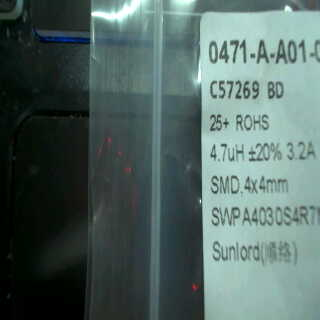4.7uH: (205, 138, 250, 166)
